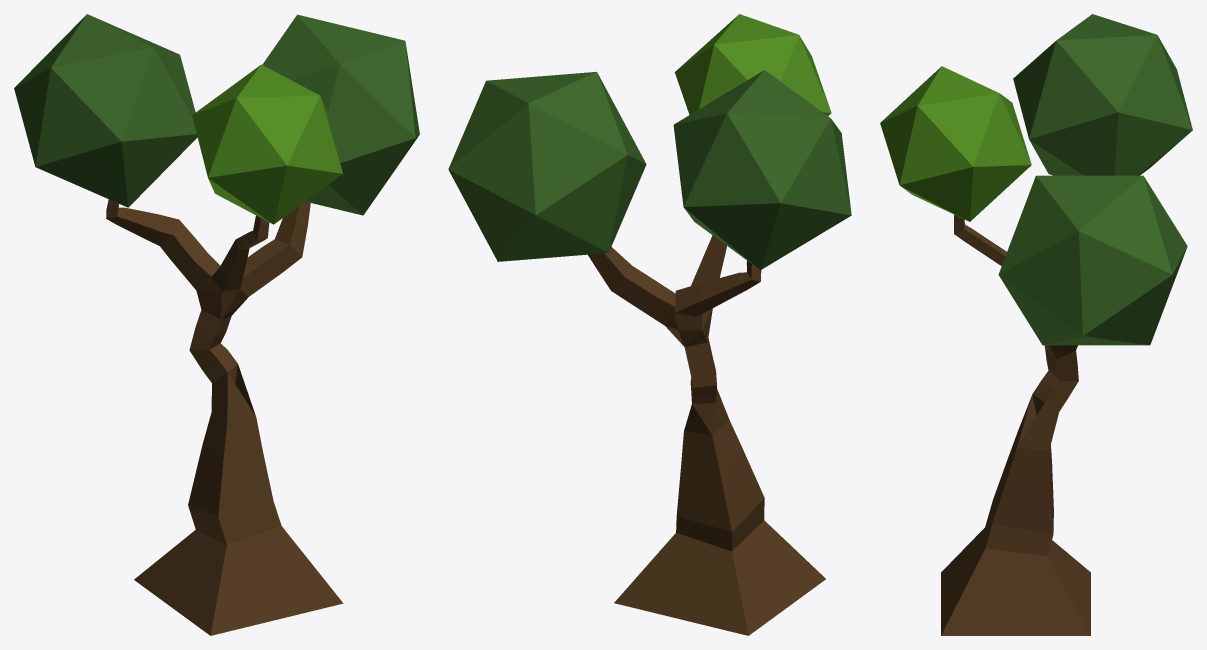
Rendered from tree2.fbx.
3 views of the same model, side by side, from view 1: azimuth 30°, elevation 25°; view 2: azimuth 150°, elevation 25°; view 3: azimuth 270°, elevation 25° (orthographic). The views are drawn at different scales.
Visible parts, largest first — view 1: Cube.001, Icosphere.008, Icosphere.006, Icosphere.007; view 2: Cube.001, Icosphere.006, Icosphere.008, Icosphere.007; view 3: Icosphere.006, Cube.001, Icosphere.008, Icosphere.007.
Part boxes in pixels (x1,y1,x2,y2): Cube.001: (106,199,343,635); Icosphere.008: (14,14,197,207); Icosphere.006: (262,14,419,215); Icosphere.007: (192,64,342,224); Cube.001: (588,235,825,635); Icosphere.006: (448,71,646,261); Icosphere.008: (673,70,851,270); Icosphere.007: (674,14,831,115); Icosphere.006: (998,175,1187,345); Cube.001: (941,214,1090,635); Icosphere.008: (1013,14,1192,175); Icosphere.007: (880,66,1031,221).
Bounding box in the file's own units: 5.98 × 8.16 × 4.34.
